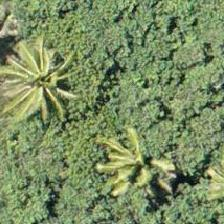coconut_tree: (81, 114, 171, 204), (0, 43, 82, 133)
